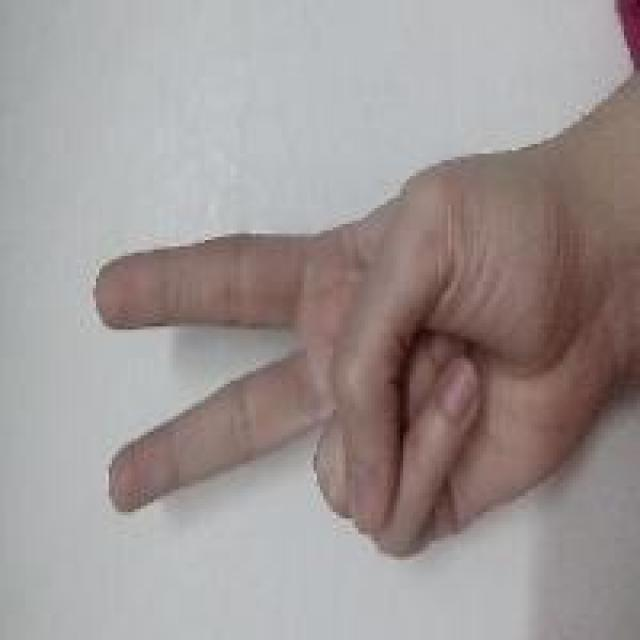V: (74, 85, 499, 619)
